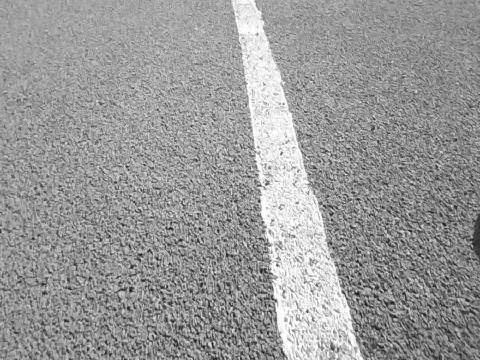Lines: (230, 0, 368, 360)
